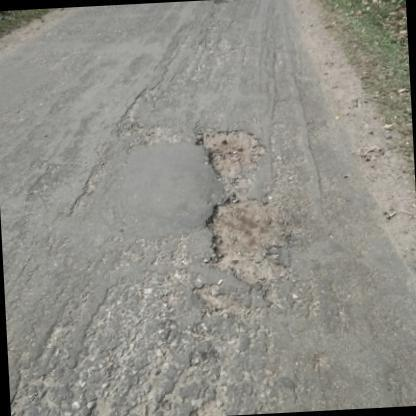pothole: (207, 193, 293, 286), (196, 124, 264, 180)
